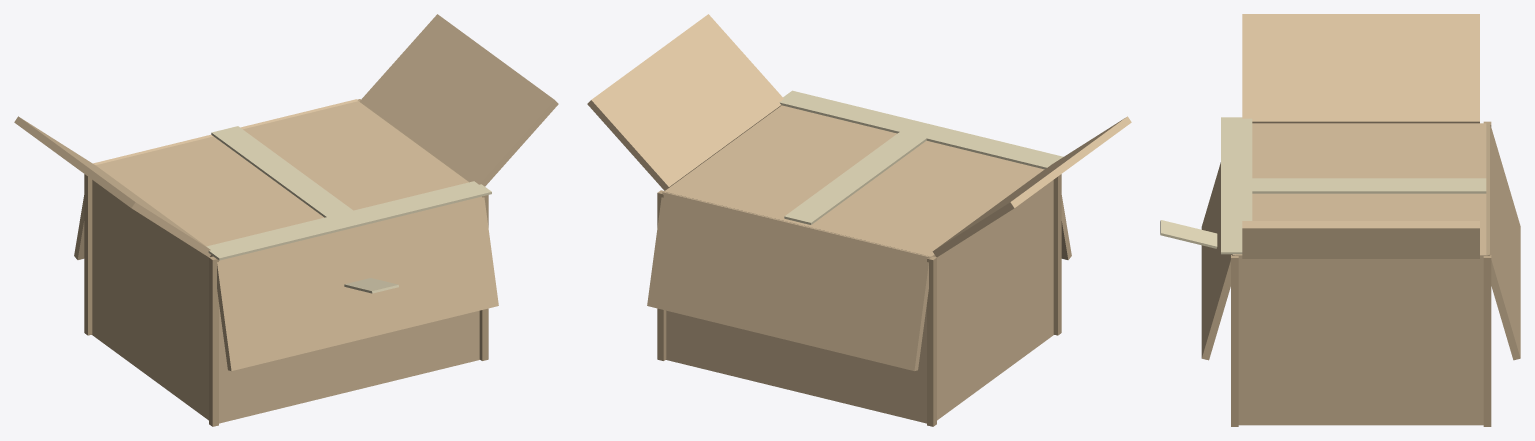
File: container_box.glb
The picture shows the model from 3 angles, left to right: view 1: azimuth 30°, elevation 25°; view 2: azimuth 150°, elevation 25°; view 3: azimuth 270°, elevation 25°; orthographic projection.
Parts seen in each view (by area): view 1: Cbx_Body, Cbx_FlapF, Cbx_FlapO1, Cbx_TapeRim1, Cbx_TapeRim0, Cbx_FlapO-1, Cbx_Edge0, Cbx_Edge2, Cbx_FlapB, Cbx_Edge1, Cbx_TapeF; view 2: Cbx_Body, Cbx_FlapB, Cbx_FlapO1, Cbx_TapeRim1, Cbx_TapeRim0, Cbx_FlapO-1, Cbx_Edge2, Cbx_Edge0, Cbx_Edge3; view 3: Cbx_Body, Cbx_FlapO-1, Cbx_FlapO1, Cbx_FlapB, Cbx_TapeRim1, Cbx_TapeRim0, Cbx_FlapF, Cbx_Edge3, Cbx_Edge1, Cbx_TapeF.
Part boxes in pixels (left/top/right/bottom): Cbx_Body: left=92, top=101, right=479, bottom=423; Cbx_FlapF: left=217, top=196, right=498, bottom=370; Cbx_FlapO1: left=359, top=14, right=558, bottom=186; Cbx_TapeRim1: left=206, top=181, right=491, bottom=260; Cbx_TapeRim0: left=211, top=126, right=359, bottom=222; Cbx_FlapO-1: left=14, top=116, right=210, bottom=257; Cbx_Edge0: left=209, top=256, right=218, bottom=426; Cbx_Edge2: left=84, top=174, right=92, bottom=335; Cbx_FlapB: left=74, top=99, right=357, bottom=259; Cbx_Edge1: left=479, top=195, right=488, bottom=360; Cbx_TapeF: left=344, top=278, right=398, bottom=293; Cbx_Body: left=664, top=105, right=1053, bottom=423; Cbx_FlapB: left=647, top=191, right=931, bottom=370; Cbx_FlapO1: left=587, top=14, right=783, bottom=190; Cbx_TapeRim1: left=779, top=90, right=1063, bottom=169; Cbx_TapeRim0: left=784, top=126, right=934, bottom=224; Cbx_FlapO-1: left=932, top=116, right=1131, bottom=257; Cbx_Edge2: left=927, top=256, right=936, bottom=426; Cbx_Edge0: left=1053, top=174, right=1061, bottom=335; Cbx_Edge3: left=657, top=190, right=666, bottom=360; Cbx_Body: left=1236, top=123, right=1486, bottom=425; Cbx_FlapO-1: left=1242, top=14, right=1479, bottom=123; Cbx_FlapO1: left=1242, top=221, right=1479, bottom=258; Cbx_FlapB: left=1486, top=122, right=1520, bottom=360; Cbx_TapeRim1: left=1221, top=117, right=1252, bottom=254; Cbx_TapeRim0: left=1236, top=178, right=1486, bottom=193; Cbx_FlapF: left=1201, top=162, right=1238, bottom=360; Cbx_Edge3: left=1483, top=255, right=1491, bottom=426; Cbx_Edge1: left=1231, top=255, right=1238, bottom=426; Cbx_TapeF: left=1160, top=220, right=1217, bottom=248.
Bounding box in the file's own units: 0.7993 × 0.4267 × 0.5763.
